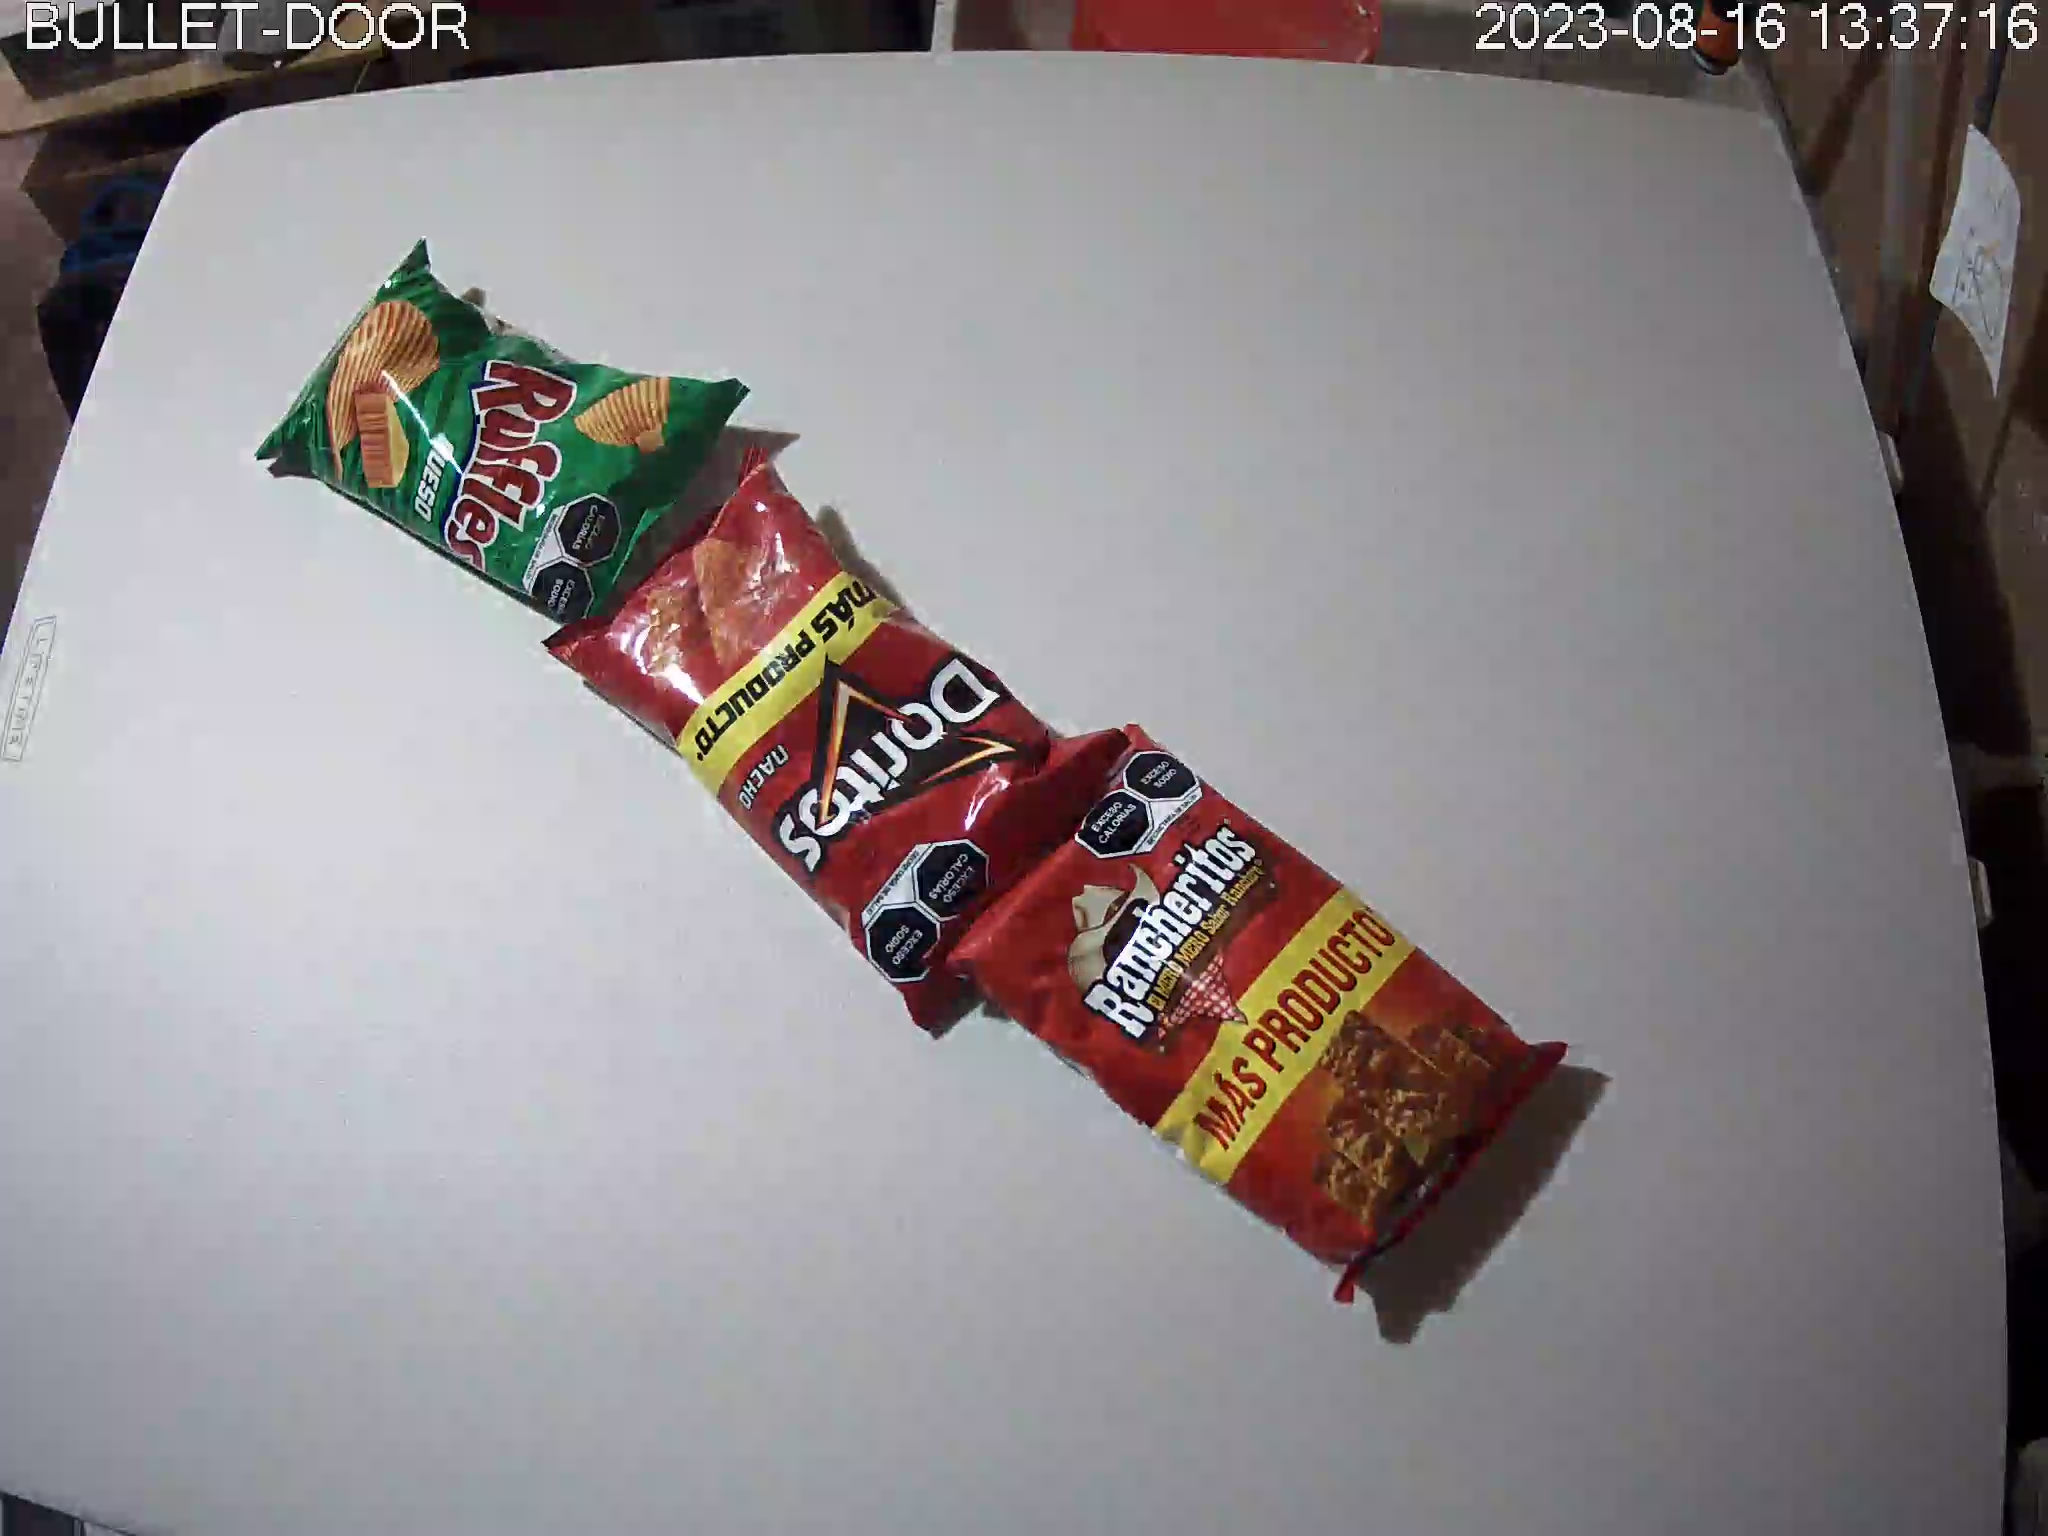DoritosN_61_F: (540, 447, 1142, 1037)
Rancheritos_58_F: (945, 724, 1571, 1305)
RufflesQ_48_F: (255, 237, 748, 644)
